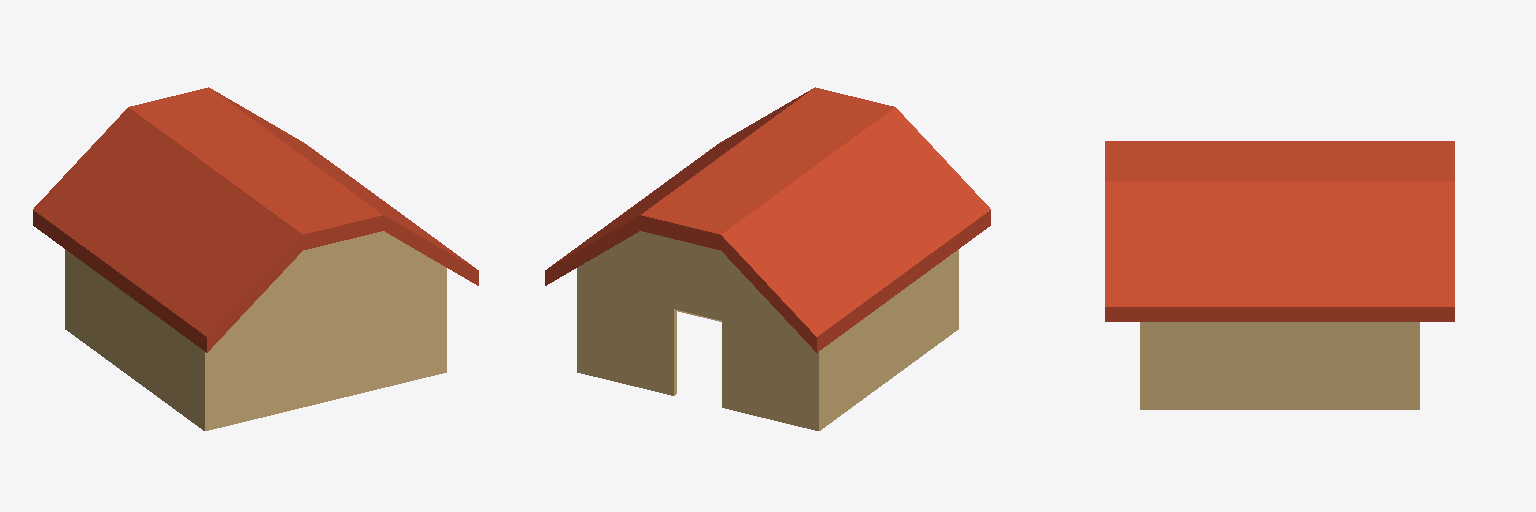
The picture shows the model from 3 angles: view 1: azimuth 30°, elevation 25°; view 2: azimuth 150°, elevation 25°; view 3: azimuth 270°, elevation 25°; orthographic projection.
Visible parts, largest first — view 1: 0, 2; view 2: 0, 2; view 3: 0, 2.
Boxes of the visible parts, box(x1,y1,x2,y2) form: 0: box(33, 87, 478, 352); 2: box(65, 231, 446, 430); 0: box(545, 87, 990, 352); 2: box(577, 231, 958, 430); 0: box(1105, 141, 1454, 321); 2: box(1140, 322, 1419, 409).
Size of the model in its own units: 1.12 by 0.75 by 1.25.
1 materials, 1 textured.